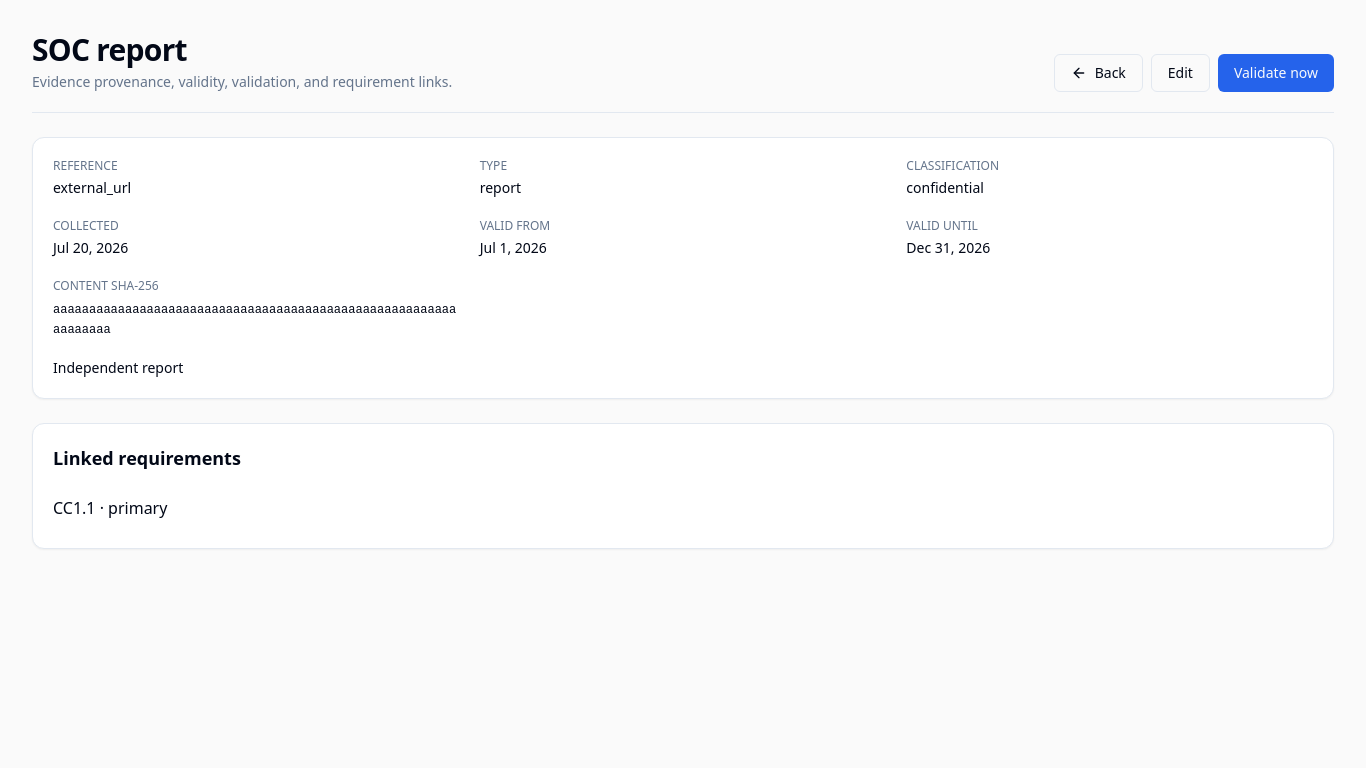
Test: compliance management pages › validates evidence from detail while preserving existing requirement evidence
expect the heading "SOC report" is shown: met, box 32,29 -> 187,70
expect the list item "CC1.1 · primary" is shown: met, box 53,497 -> 167,519
Click the button "Validate now".
click(1276, 73)  # box 1218,54 -> 1334,92
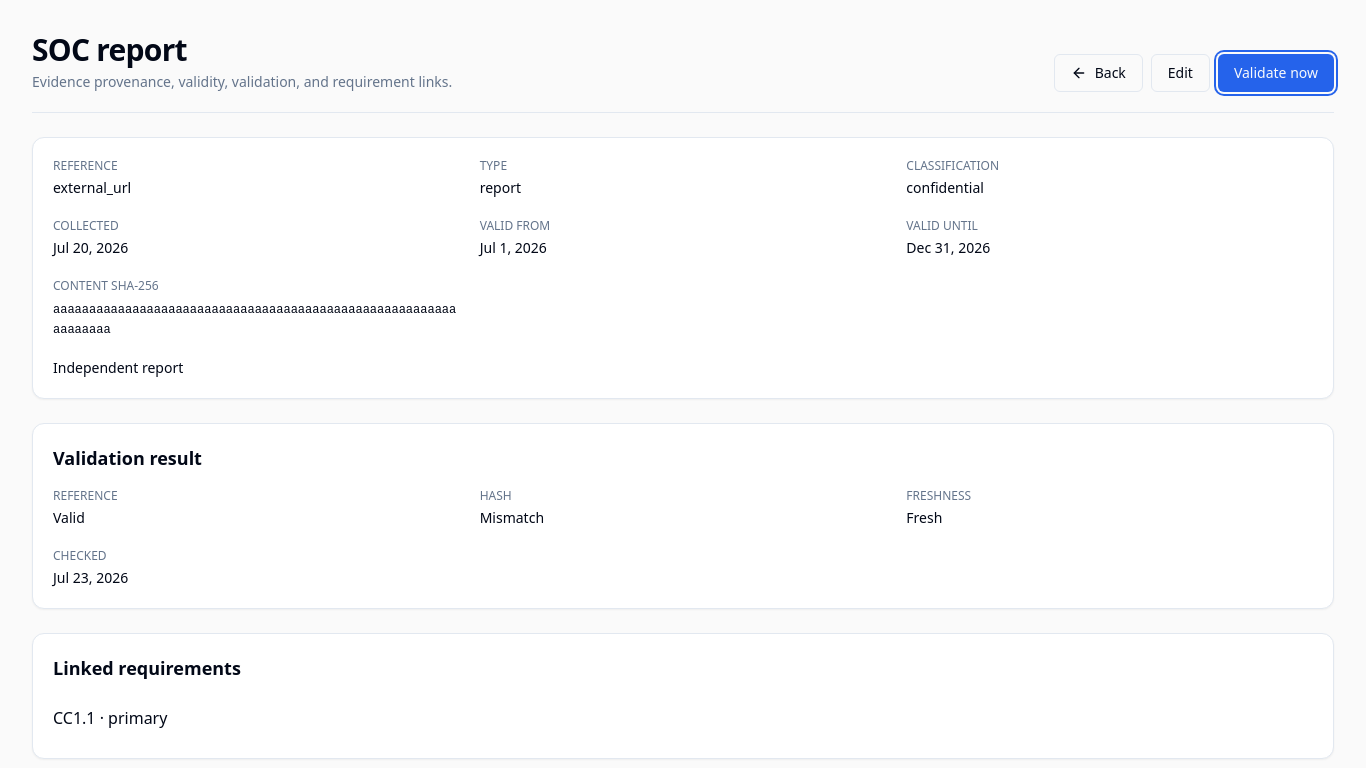
expect the text "Mismatch" is shown: met, box 480,508 -> 544,527
